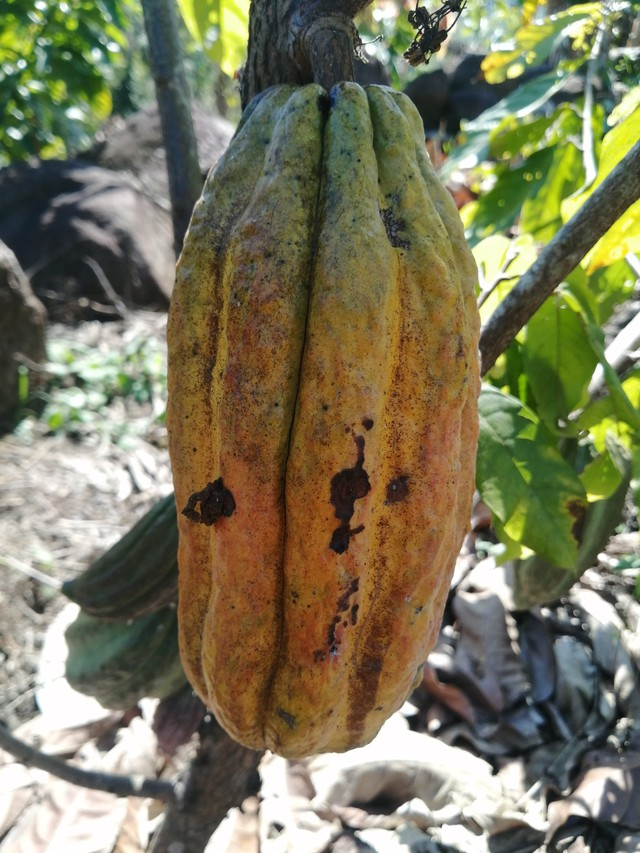carmenta foraseminis: (165, 57, 485, 770)
